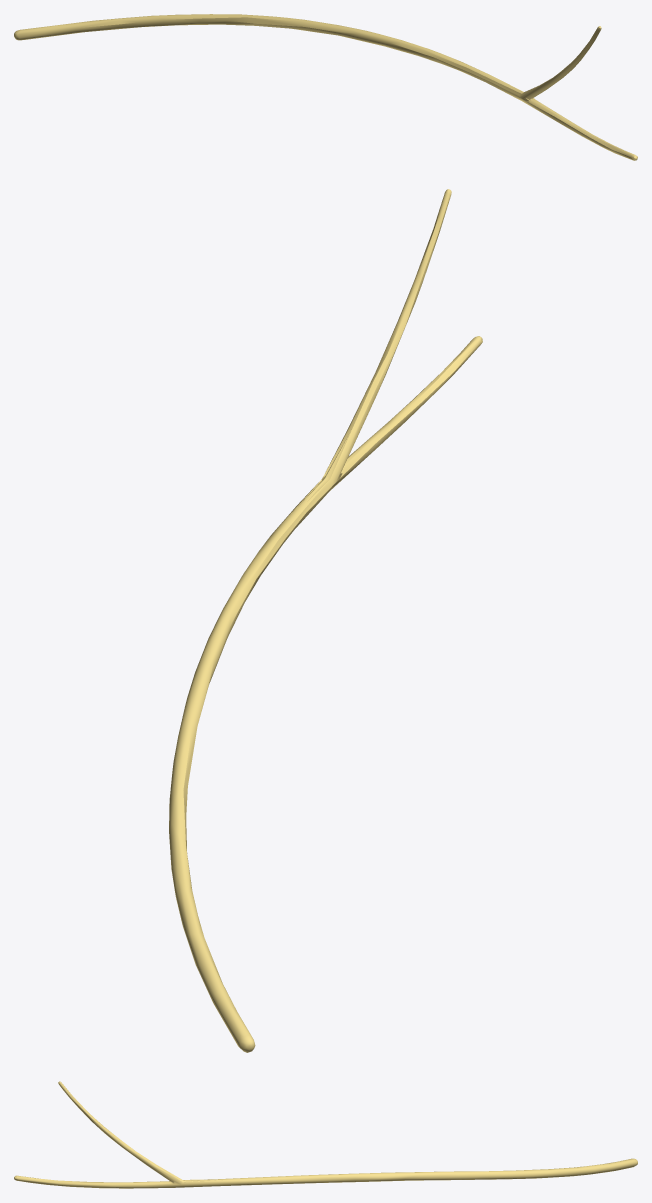
Rendered from fma52785_fj4004.glb.
The picture shows the model from 3 angles, top to bottom: view 1: azimuth 30°, elevation 25°; view 2: azimuth 150°, elevation 25°; view 3: azimuth 270°, elevation 25°; orthographic projection. The views are drawn at different scales.
Visible parts, largest first — view 1: FMA52785_FJ4004; view 2: FMA52785_FJ4004; view 3: FMA52785_FJ4004.
Boxes of the visible parts, x1,y1,x2,y2 form: FMA52785_FJ4004: (14, 14, 637, 160); FMA52785_FJ4004: (169, 189, 482, 1052); FMA52785_FJ4004: (14, 1081, 637, 1188).
Size of the model in its own units: 0.0129 by 0.0108 by 0.0349.
